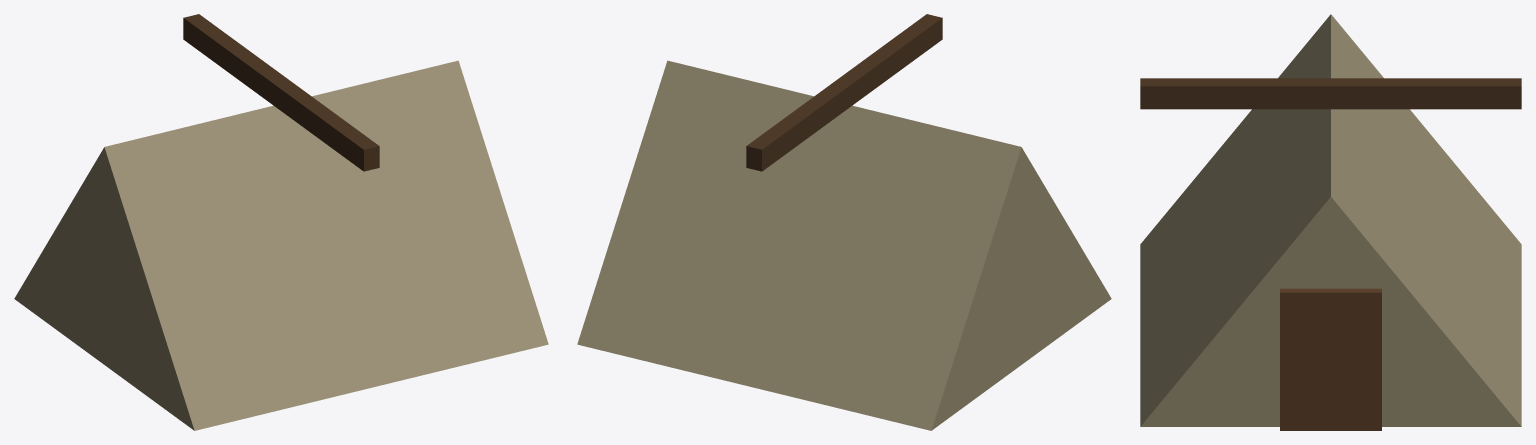
Rendered from tent_a.glb.
3 views of the same model, side by side, from view 1: azimuth 30°, elevation 25°; view 2: azimuth 150°, elevation 25°; view 3: azimuth 270°, elevation 25° (orthographic). The views are drawn at different scales.
Parts seen in each view (by area): view 1: Cube, Cube.001; view 2: Cube, Cube.001; view 3: Cube, Cube.002, Cube.001.
Boxes of the visible parts, x1,y1,x2,y2 form: Cube: [14, 60, 548, 430]; Cube.001: [183, 14, 379, 171]; Cube: [577, 60, 1111, 430]; Cube.001: [746, 14, 942, 171]; Cube: [1140, 14, 1521, 426]; Cube.002: [1280, 288, 1381, 430]; Cube.001: [1140, 78, 1521, 109].
Bounding box in the file's own units: 34.75 × 22 × 30.
